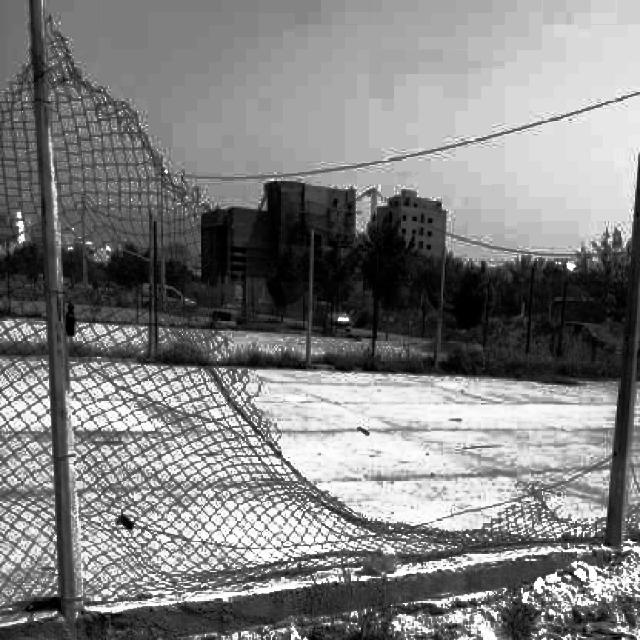anomaly-fence: (12, 23, 640, 546)
